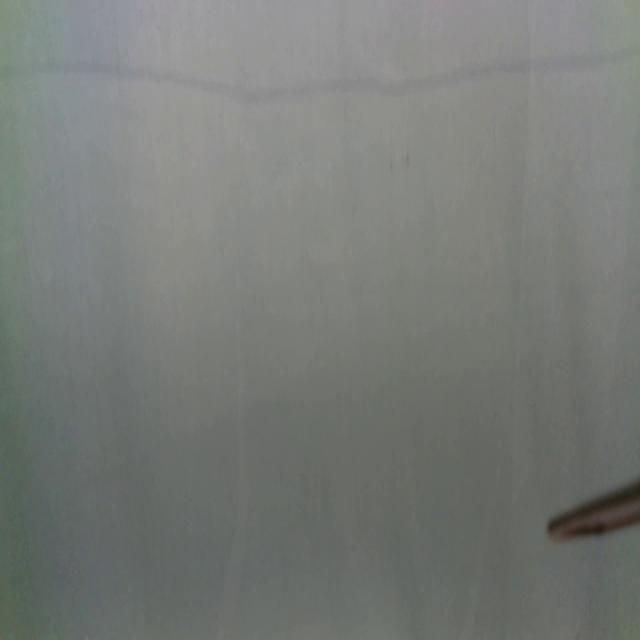color bleeding: (0, 42, 640, 110)
